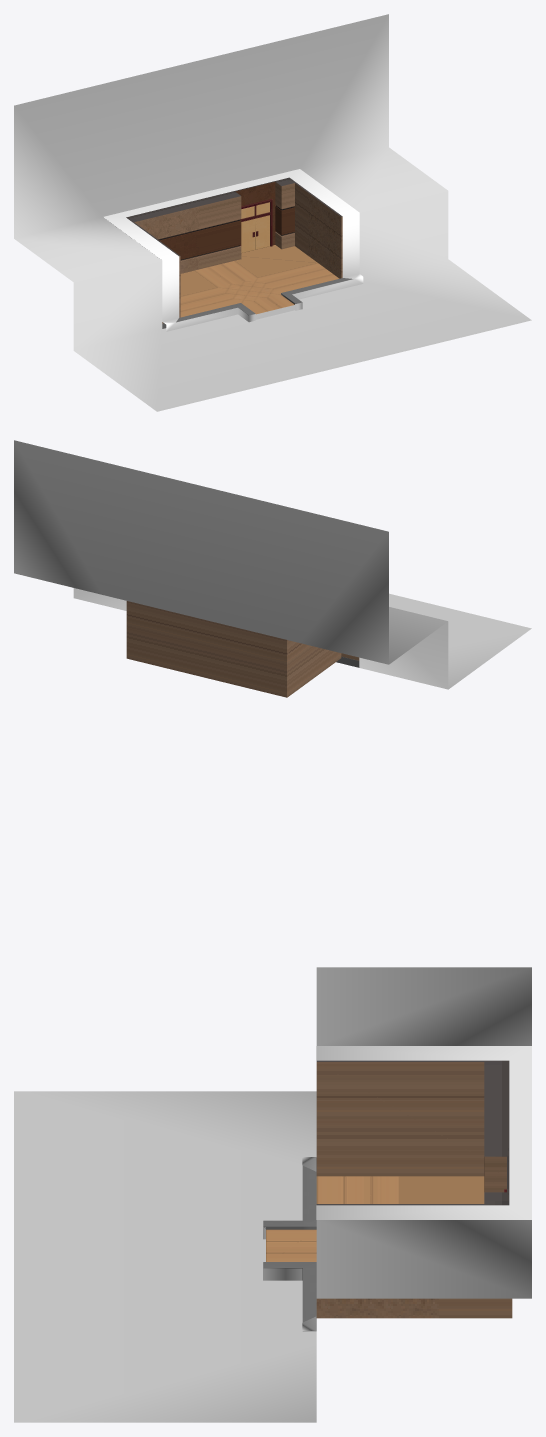
The model's file is a_com_building_b05.gltf.
3 renders of one model, top to bottom at view 1: azimuth 30°, elevation 25°; view 2: azimuth 150°, elevation 25°; view 3: azimuth 270°, elevation 25°, orthographic. The views are drawn at different scales.
Visible parts, largest first — view 1: a_com_building_b05_outsideblank01_mesh_shape:a_com_building_, um_a_com_building_b05_model_a_com_building_b05_modelShape:a_ (×6), nomerge_outside_edge_shape:mat_texture_edge02, a_com_building_b05_ceiling01_mesh_shape:a_com_building_b05_c; view 2: a_com_building_b05_outsideblank01_mesh_shape:a_com_building_, um_a_com_building_b05_model_a_com_building_b05_modelShape:a_; view 3: a_com_building_b05_outsideblank01_mesh_shape:a_com_building_, um_a_com_building_b05_model_a_com_building_b05_modelShape:a_ (×4), nomerge_outside_edge_shape:mat_texture_edge02, a_com_building_b05_ceiling01_mesh_shape:a_com_building_b05_c.
Part boxes in pixels (left/top/right/bottom): a_com_building_b05_outsideblank01_mesh_shape:a_com_building_: left=14, top=14, right=531, bottom=411; um_a_com_building_b05_model_a_com_building_b05_modelShape:a_ (×6): left=134, top=182, right=352, bottom=328; nomerge_outside_edge_shape:mat_texture_edge02: left=103, top=169, right=363, bottom=331; a_com_building_b05_ceiling01_mesh_shape:a_com_building_b05_c: left=126, top=177, right=342, bottom=256; a_com_building_b05_outsideblank01_mesh_shape:a_com_building_: left=14, top=440, right=531, bottom=689; um_a_com_building_b05_model_a_com_building_b05_modelShape:a_: left=126, top=601, right=359, bottom=697; a_com_building_b05_outsideblank01_mesh_shape:a_com_building_: left=14, top=967, right=531, bottom=1422; um_a_com_building_b05_model_a_com_building_b05_modelShape:a_ (×4): left=263, top=1062, right=512, bottom=1331; nomerge_outside_edge_shape:mat_texture_edge02: left=263, top=1046, right=531, bottom=1330; a_com_building_b05_ceiling01_mesh_shape:a_com_building_b05_c: left=316, top=1060, right=509, bottom=1205.
Size of the model in its own units: 28 by 14.38 by 18.5.
Materials: 9 (7 with a texture image).
